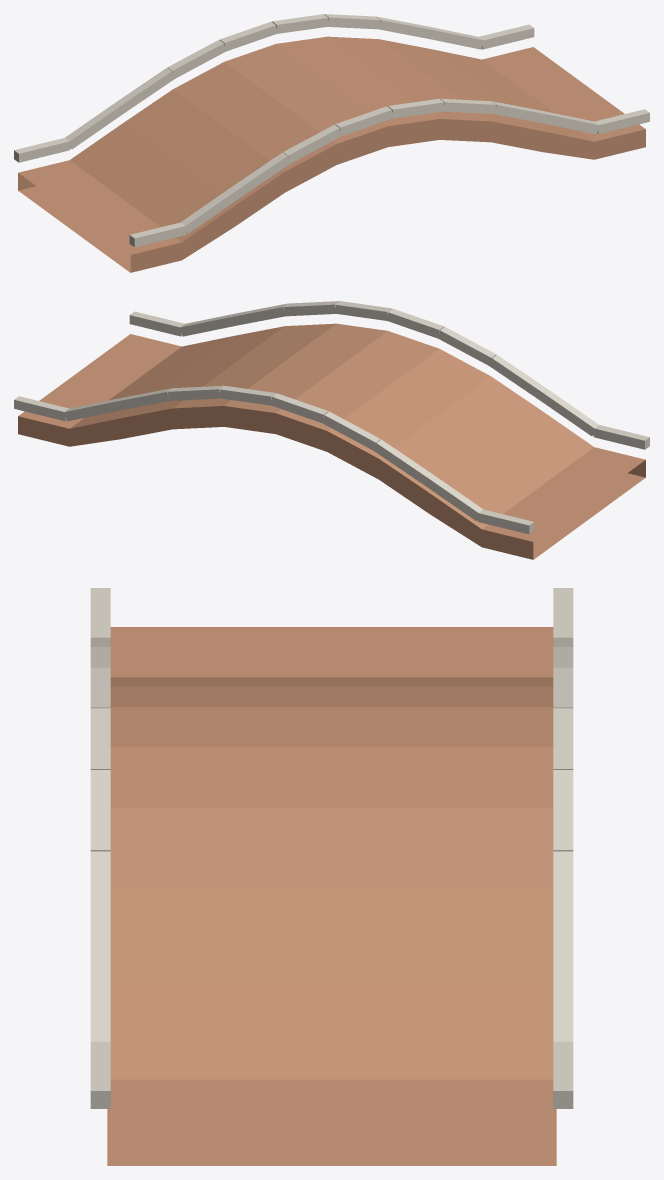
Rendered from ArchBridge.glb.
3 views of the same model, one above another, from view 1: azimuth 30°, elevation 25°; view 2: azimuth 150°, elevation 25°; view 3: azimuth 270°, elevation 25° (orthographic). The views are drawn at different scales.
Parts seen in each view (by area): view 1: Bridge deck, Beam.069, Beam.059, Beam.070, Beam.060, Beam.061, Beam.071, Beam.058, Beam.068, Beam.072, Beam.062, Beam.077 (+9 smaller); view 2: Bridge deck, Beam.059, Beam.069, Beam.060, Beam.070, Beam.071, Beam.061, Beam.068, Beam.058, Beam.062, Beam.072, Beam.067 (+9 smaller); view 3: Bridge deck, Beam.066, Beam.076, Beam.065, Beam.075, Beam.064, Beam.074, Beam.067, Beam.077, Beam.063, Beam.073, Beam.058 (+3 smaller).
Boxes of the visible parts, bbox=[...] form: Bridge deck: bbox=[18, 36, 645, 272]; Beam.069: bbox=[65, 102, 123, 149]; Beam.059: bbox=[180, 187, 239, 233]; Beam.070: bbox=[115, 68, 174, 113]; Beam.060: bbox=[231, 152, 290, 197]; Beam.061: bbox=[283, 124, 341, 163]; Beam.071: bbox=[167, 40, 225, 78]; Beam.058: bbox=[129, 222, 186, 247]; Beam.068: bbox=[14, 138, 70, 162]; Beam.072: bbox=[219, 21, 276, 51]; Beam.062: bbox=[335, 106, 392, 135]; Beam.077: bbox=[479, 24, 534, 49]; Bridge deck: bbox=[18, 323, 645, 559]; Beam.059: bbox=[540, 389, 598, 436]; Beam.069: bbox=[424, 474, 483, 520]; Beam.060: bbox=[489, 355, 548, 400]; Beam.070: bbox=[373, 439, 432, 484]; Beam.071: bbox=[322, 411, 380, 450]; Beam.061: bbox=[438, 327, 496, 365]; Beam.068: bbox=[477, 509, 534, 534]; Beam.058: bbox=[593, 425, 649, 449]; Beam.062: bbox=[387, 308, 444, 338]; Beam.072: bbox=[271, 393, 328, 422]; Beam.067: bbox=[129, 311, 184, 336]; Bridge deck: bbox=[107, 627, 556, 1165]; Beam.066: bbox=[90, 946, 110, 1041]; Beam.076: bbox=[553, 946, 573, 1041]; Beam.065: bbox=[90, 851, 110, 946]; Beam.075: bbox=[553, 851, 573, 946]; Beam.064: bbox=[90, 770, 110, 851]; Beam.074: bbox=[553, 770, 573, 851]; Beam.067: bbox=[90, 1041, 110, 1108]; Beam.077: bbox=[553, 1041, 573, 1108]; Beam.063: bbox=[90, 708, 110, 769]; Beam.073: bbox=[553, 708, 573, 769]; Beam.058: bbox=[90, 588, 110, 637].
Bounding box in the file's own units: 18 × 3.45 × 7.3.
